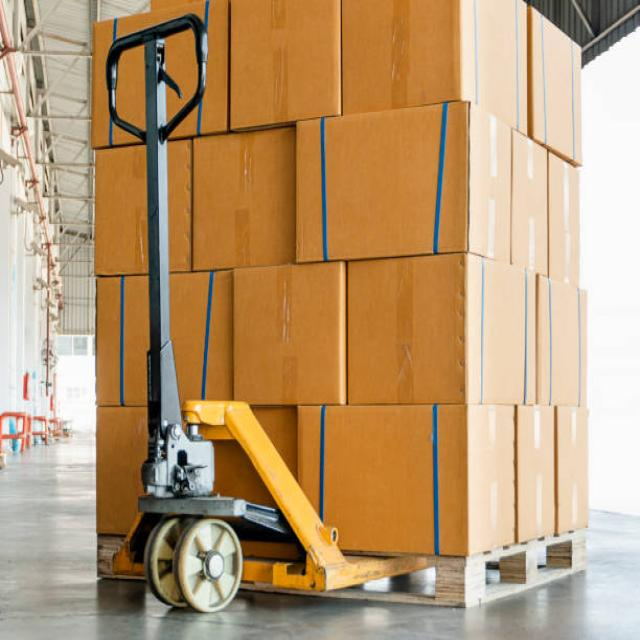Wooden-Pallets: (342, 527, 593, 611)
